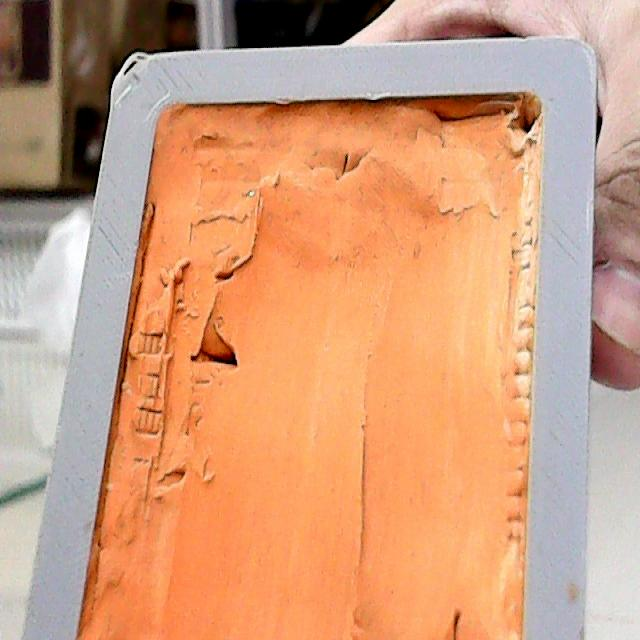block: (38, 51, 591, 630)
